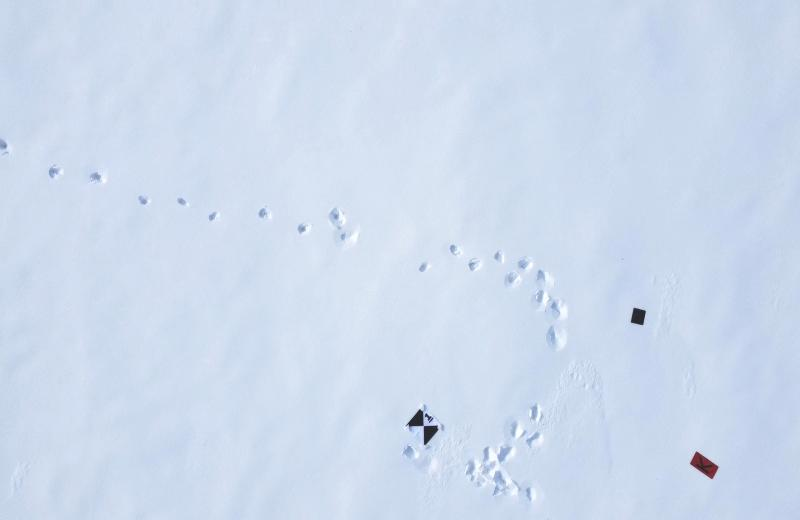Rectangle: (687, 445, 722, 479)
Square: (628, 307, 651, 333)
